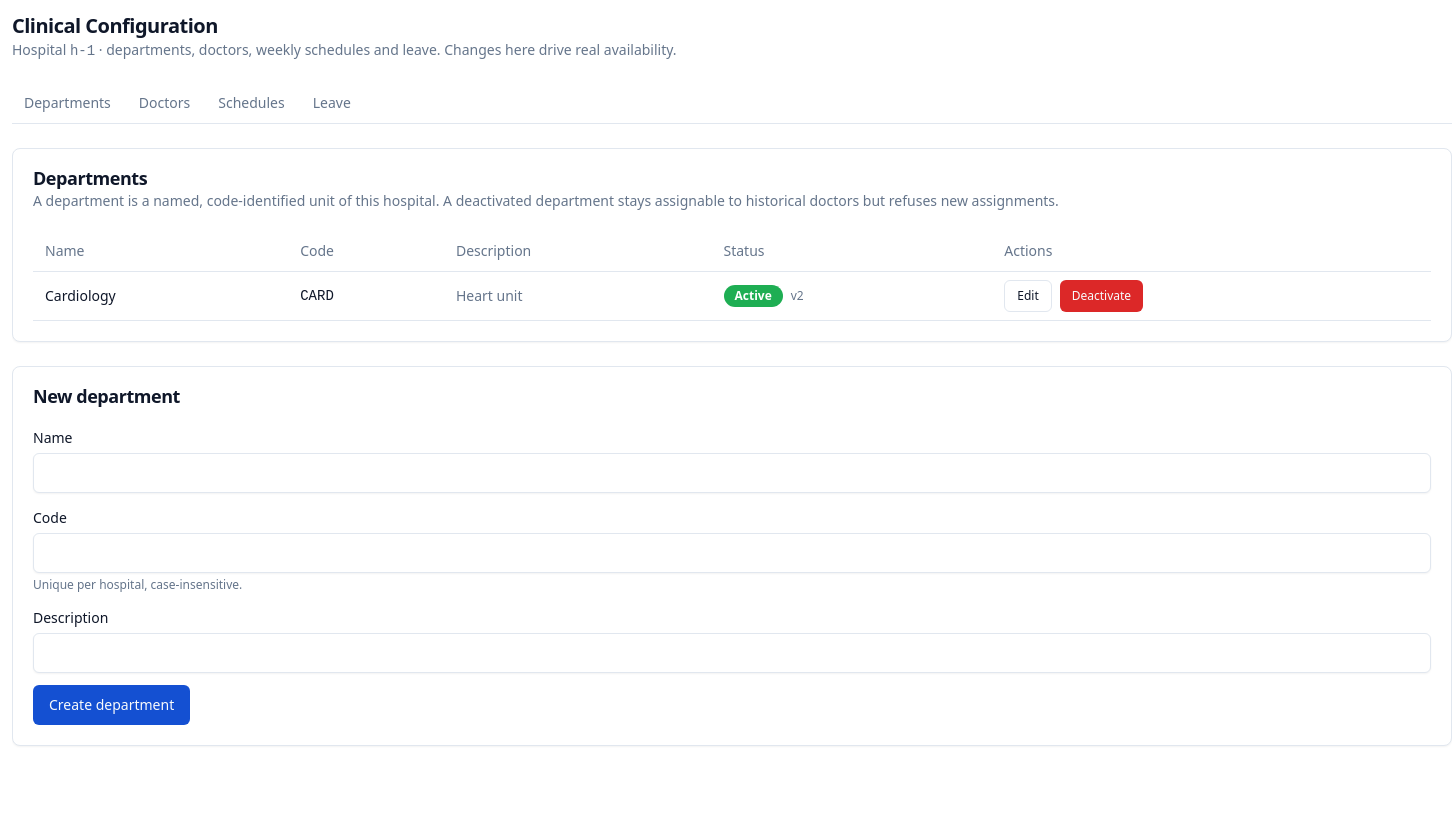
warns when the selected doctor is inactive before a schedule is saved
Expected: the text "Cardiology" is shown, [33, 271, 288, 320]
Step 1. Click the tab with test id "cc-tab-schedules" → point(252, 104), box [206, 85, 297, 123]
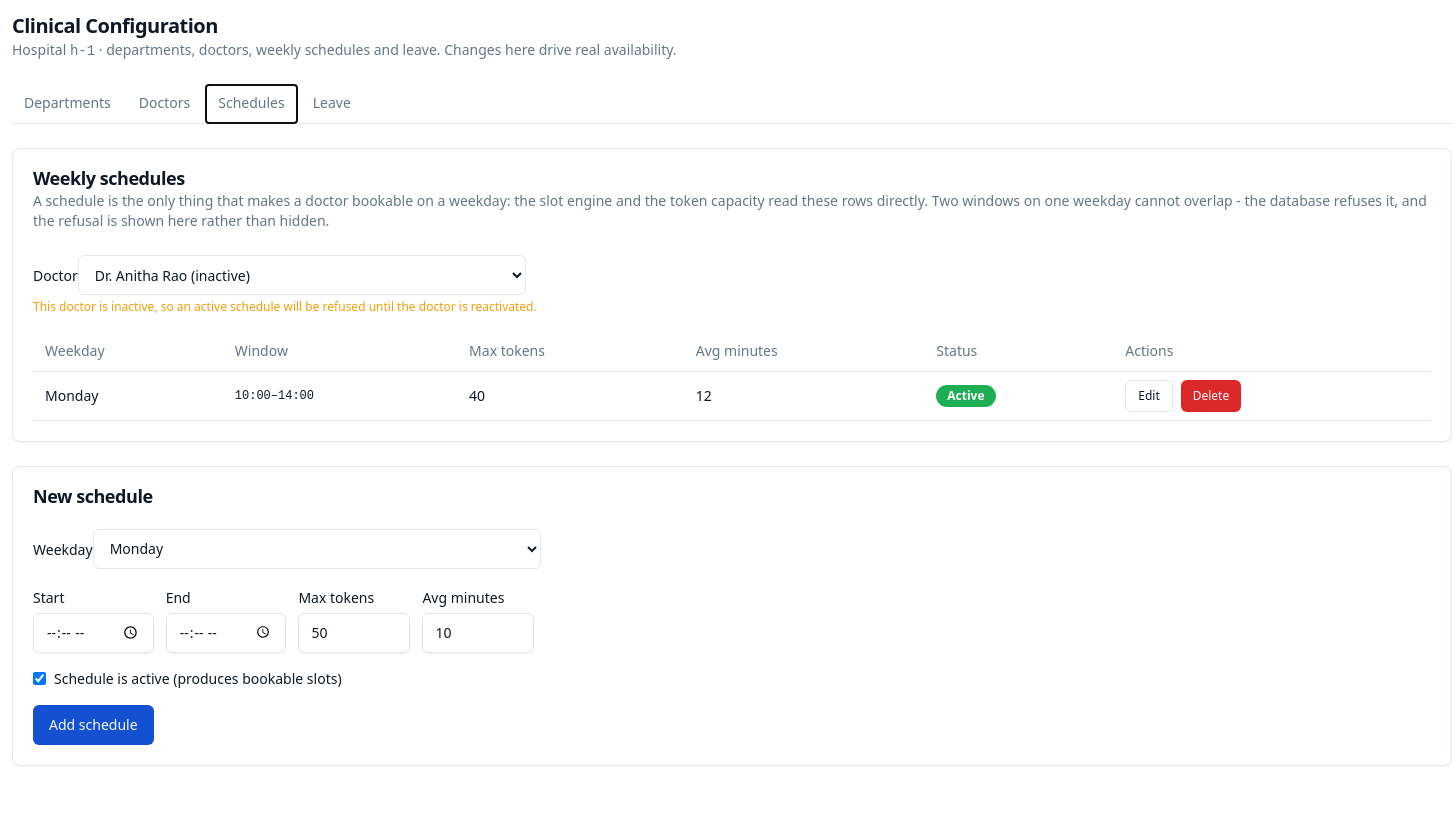
Now the text "inactive, so an active schedule will be refused" is shown, box [33, 298, 537, 315]
